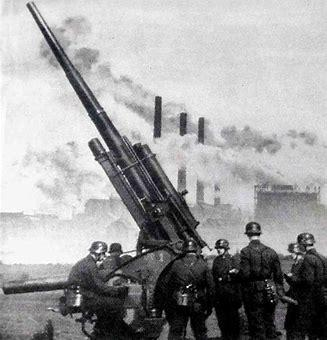MIL_SPG: (28, 3, 207, 306)
